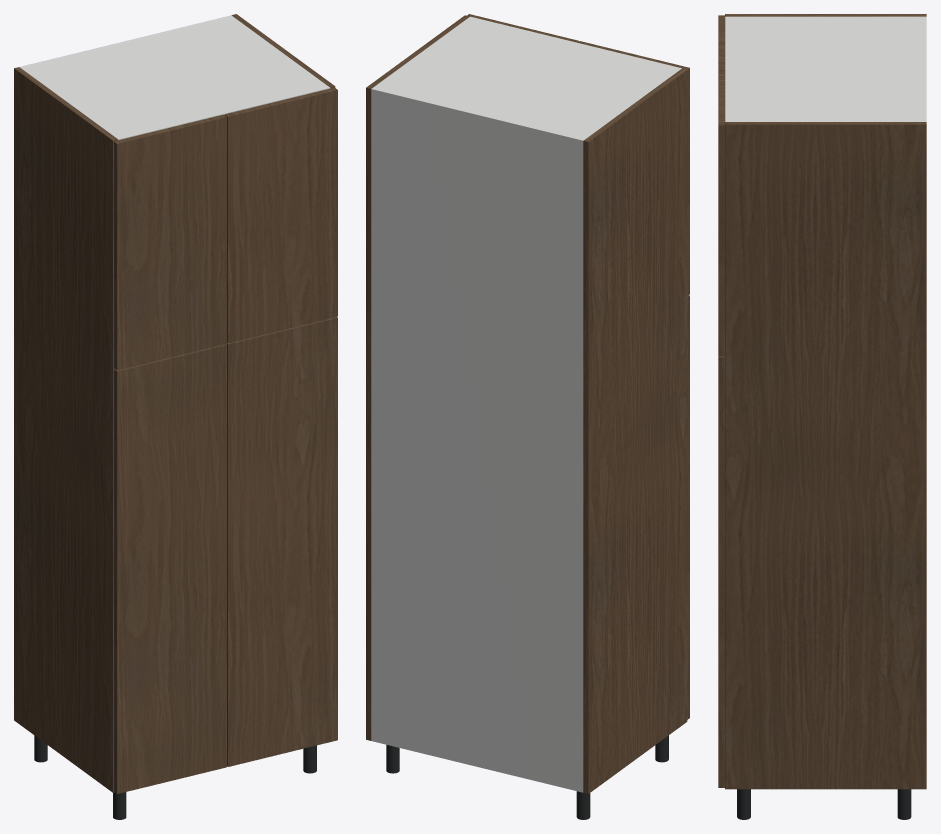
Rendered from oppein-pb-mso-pc3084.glb.
3 views of the same model, side by side, from view 1: azimuth 30°, elevation 25°; view 2: azimuth 150°, elevation 25°; view 3: azimuth 270°, elevation 25° (orthographic).
Parts seen in each view (by area): view 1: Cabinet side, Door, Door.001, Door.002, Door.003, Cabinet top; view 2: Cabinet back, Cabinet side, Cabinet top, Cabinet side.001, Door, Door.002; view 3: Cabinet side.001, Cabinet top, Door.001, Door.003, Cabinet side, Cabinet back, Adjustable foot.002, Adjustable foot.003.
Boxes of the visible parts, x1,y1,x2,y2 form: Cabinet side: (14,67,117,792); Door: (114,344,226,793); Door.001: (226,317,337,766); Door.002: (114,114,226,370); Door.003: (224,87,337,343); Cabinet top: (21,16,330,140); Cabinet back: (371,87,584,792); Cabinet side: (583,68,687,793); Cabinet top: (371,16,681,144); Cabinet side.001: (366,15,469,740); Door: (687,295,689,719); Door.002: (578,41,689,295); Cabinet side.001: (725,122,926,789); Cabinet top: (725,16,922,121); Door.001: (718,356,724,787); Door.003: (718,70,724,355); Cabinet side: (725,14,926,16); Cabinet back: (922,16,926,121); Adjustable foot.002: (897,789,911,819); Adjustable foot.003: (737,789,750,819).
Size of the model in its own units: 0.762 by 2.25 by 0.6064.
Materials: 3 (1 with a texture image).
